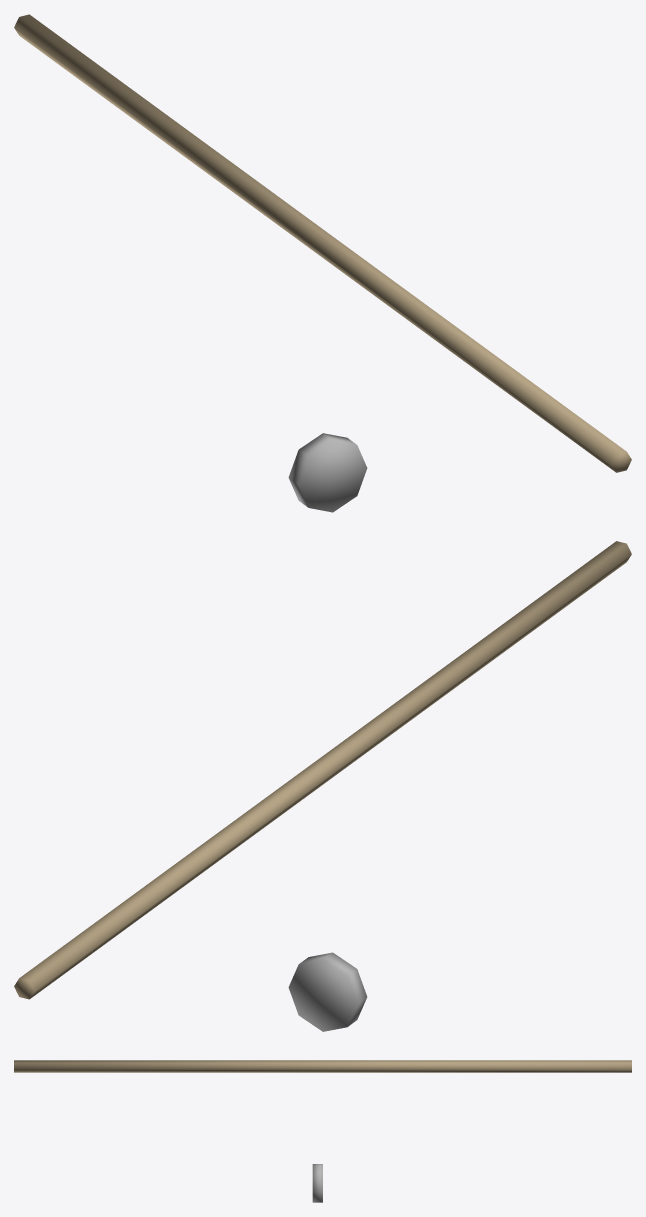
The model's file is prop_fishing_rod.glb.
3 views of the same model, one above another, from view 1: azimuth 30°, elevation 25°; view 2: azimuth 150°, elevation 25°; view 3: azimuth 270°, elevation 25° (orthographic). The views are drawn at different scales.
Visible parts, largest first — view 1: rod, reel; view 2: rod, reel; view 3: rod, reel.
Part boxes in pixels (bbox=[...]): rod: bbox=[14, 14, 631, 472]; reel: bbox=[288, 433, 367, 512]; rod: bbox=[14, 541, 631, 999]; reel: bbox=[288, 952, 367, 1031]; rod: bbox=[14, 1060, 631, 1072]; reel: bbox=[312, 1164, 322, 1202].
Bounding box in the file's own units: 0.08 × 0.3004 × 1.2.
